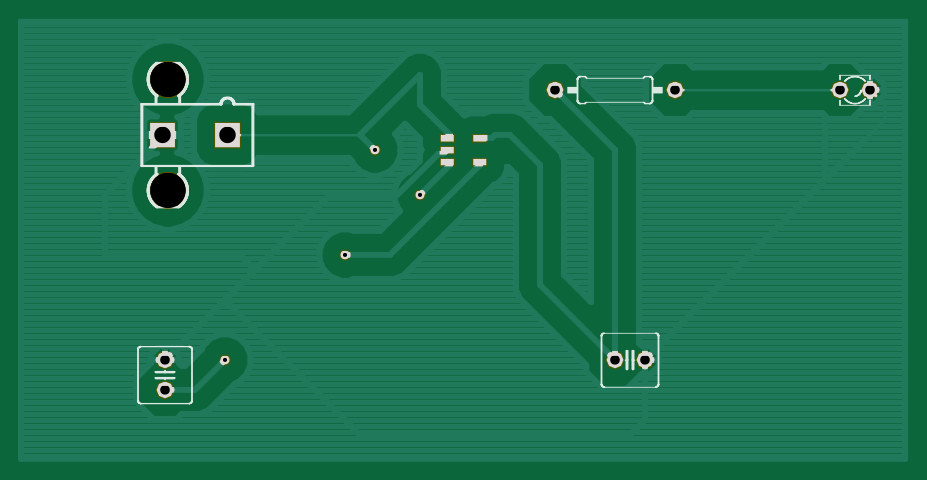LED: (832, 73, 881, 109)
capacitance: (599, 332, 659, 388), (137, 346, 193, 405)
power_supply: (138, 61, 256, 211)
regulation: (438, 132, 489, 169)
resistance: (545, 75, 684, 107)
